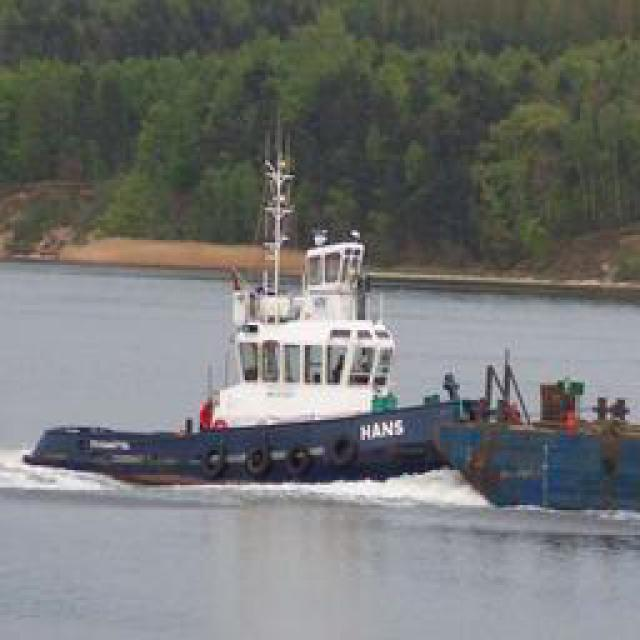Ship: (29, 196, 549, 486)
